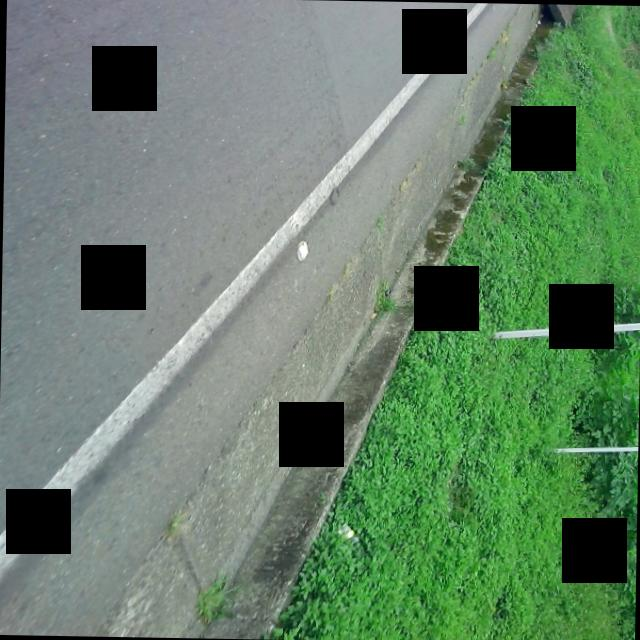DITCH: (0, 0, 579, 640), (0, 0, 553, 640), (0, 0, 548, 640)
